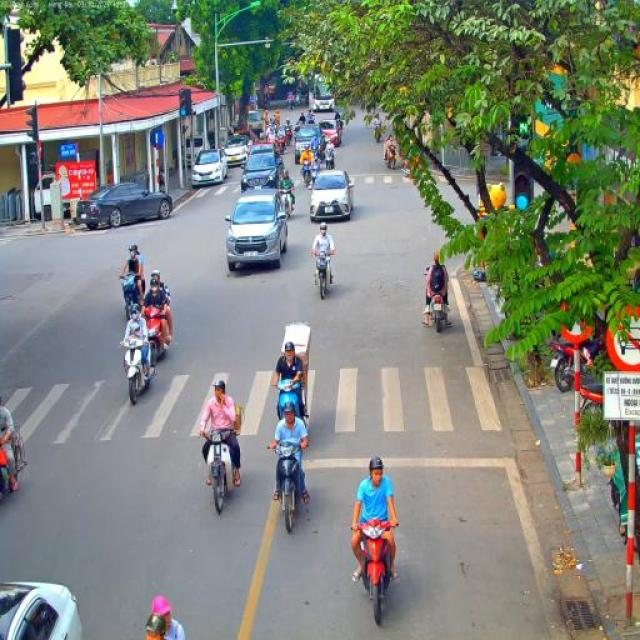bus: (309, 72, 336, 111)
car: (225, 186, 289, 272), (76, 179, 174, 231), (0, 580, 82, 640), (310, 168, 354, 222), (240, 152, 285, 193), (192, 148, 228, 186), (293, 124, 325, 164), (223, 135, 251, 170), (315, 119, 343, 147), (232, 128, 254, 152), (248, 142, 278, 158)
motorcycle: (349, 518, 399, 624), (544, 332, 602, 393), (268, 441, 306, 533), (199, 426, 235, 516), (120, 334, 156, 405), (0, 432, 28, 502), (422, 272, 452, 333), (140, 303, 168, 367), (272, 378, 309, 424), (118, 271, 144, 321), (313, 251, 332, 300), (279, 188, 293, 218), (298, 160, 312, 186), (384, 144, 397, 170), (310, 163, 320, 189), (324, 148, 334, 170), (282, 126, 293, 146), (310, 144, 322, 162), (374, 122, 384, 142), (276, 134, 286, 154), (262, 120, 270, 140), (336, 119, 344, 135), (286, 99, 295, 111), (295, 94, 301, 110), (267, 138, 278, 146)
truck: (244, 111, 264, 142)
